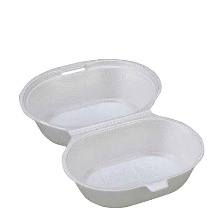foam_box: (15, 51, 208, 210)
